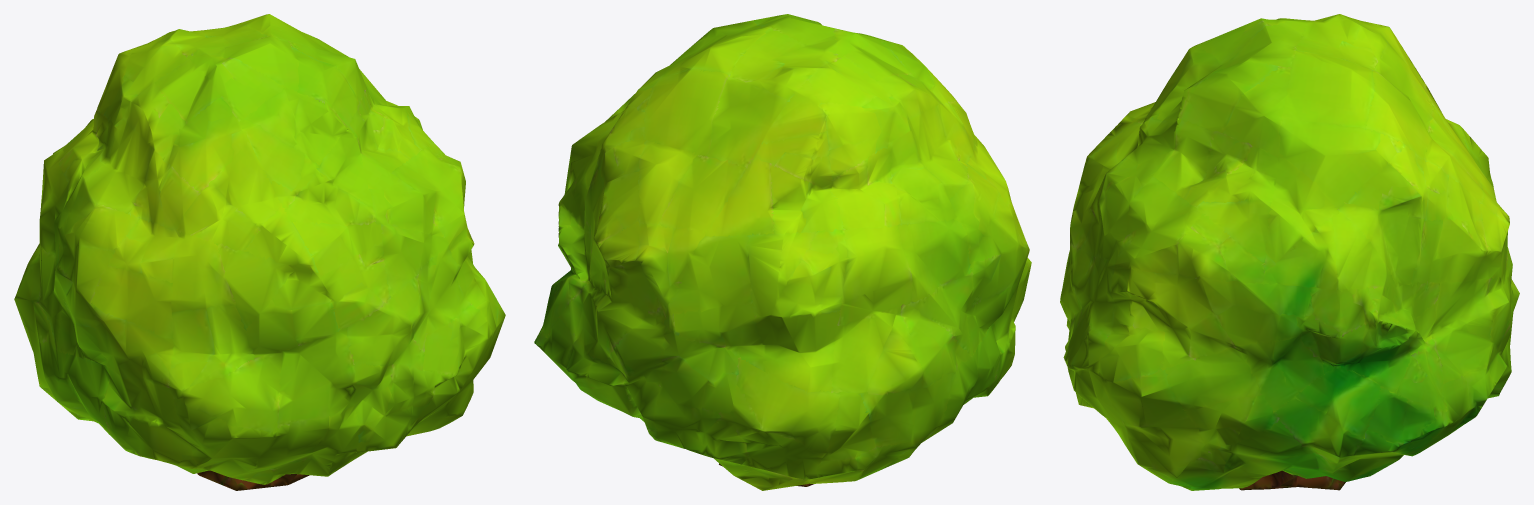
File: bush.glb
The picture shows the model from 3 angles, left to right: view 1: azimuth 30°, elevation 25°; view 2: azimuth 150°, elevation 25°; view 3: azimuth 270°, elevation 25°; orthographic projection.
Size of the model in its own units: 1.89 by 1.9 by 1.84.
Materials: 1 (1 with a texture image).
